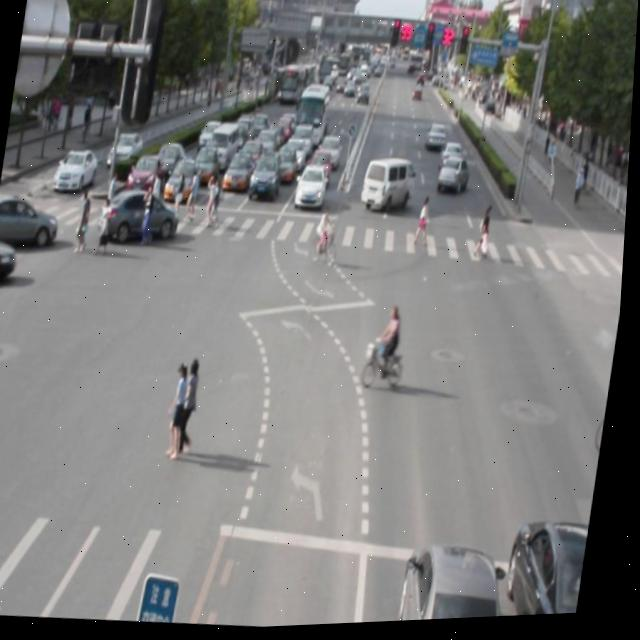car: (399, 543, 520, 625), (505, 516, 596, 621), (98, 185, 187, 252)
